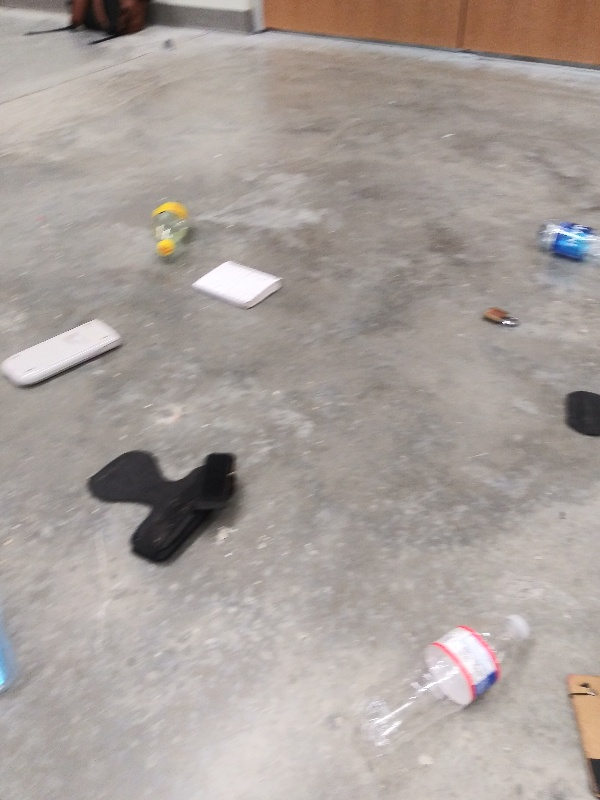bottle: (348, 610, 534, 757), (534, 217, 600, 269), (149, 193, 192, 258), (1, 613, 19, 688)
